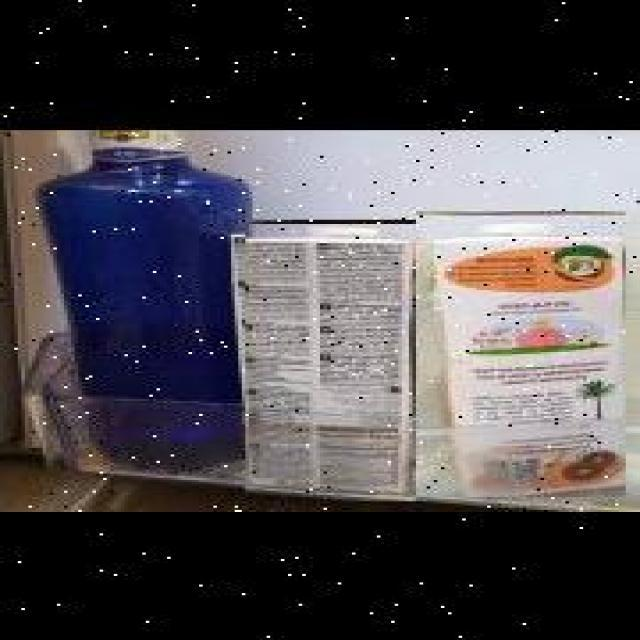milk: (416, 211, 626, 495), (245, 220, 416, 500)
